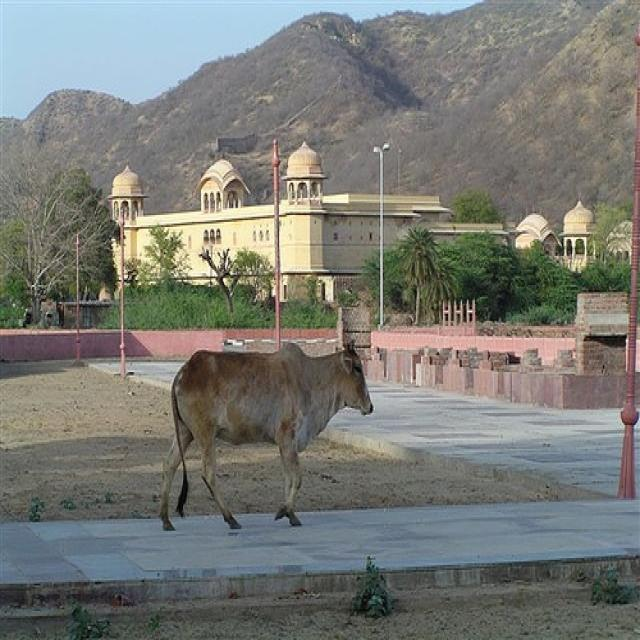cow: (157, 338, 375, 531)
